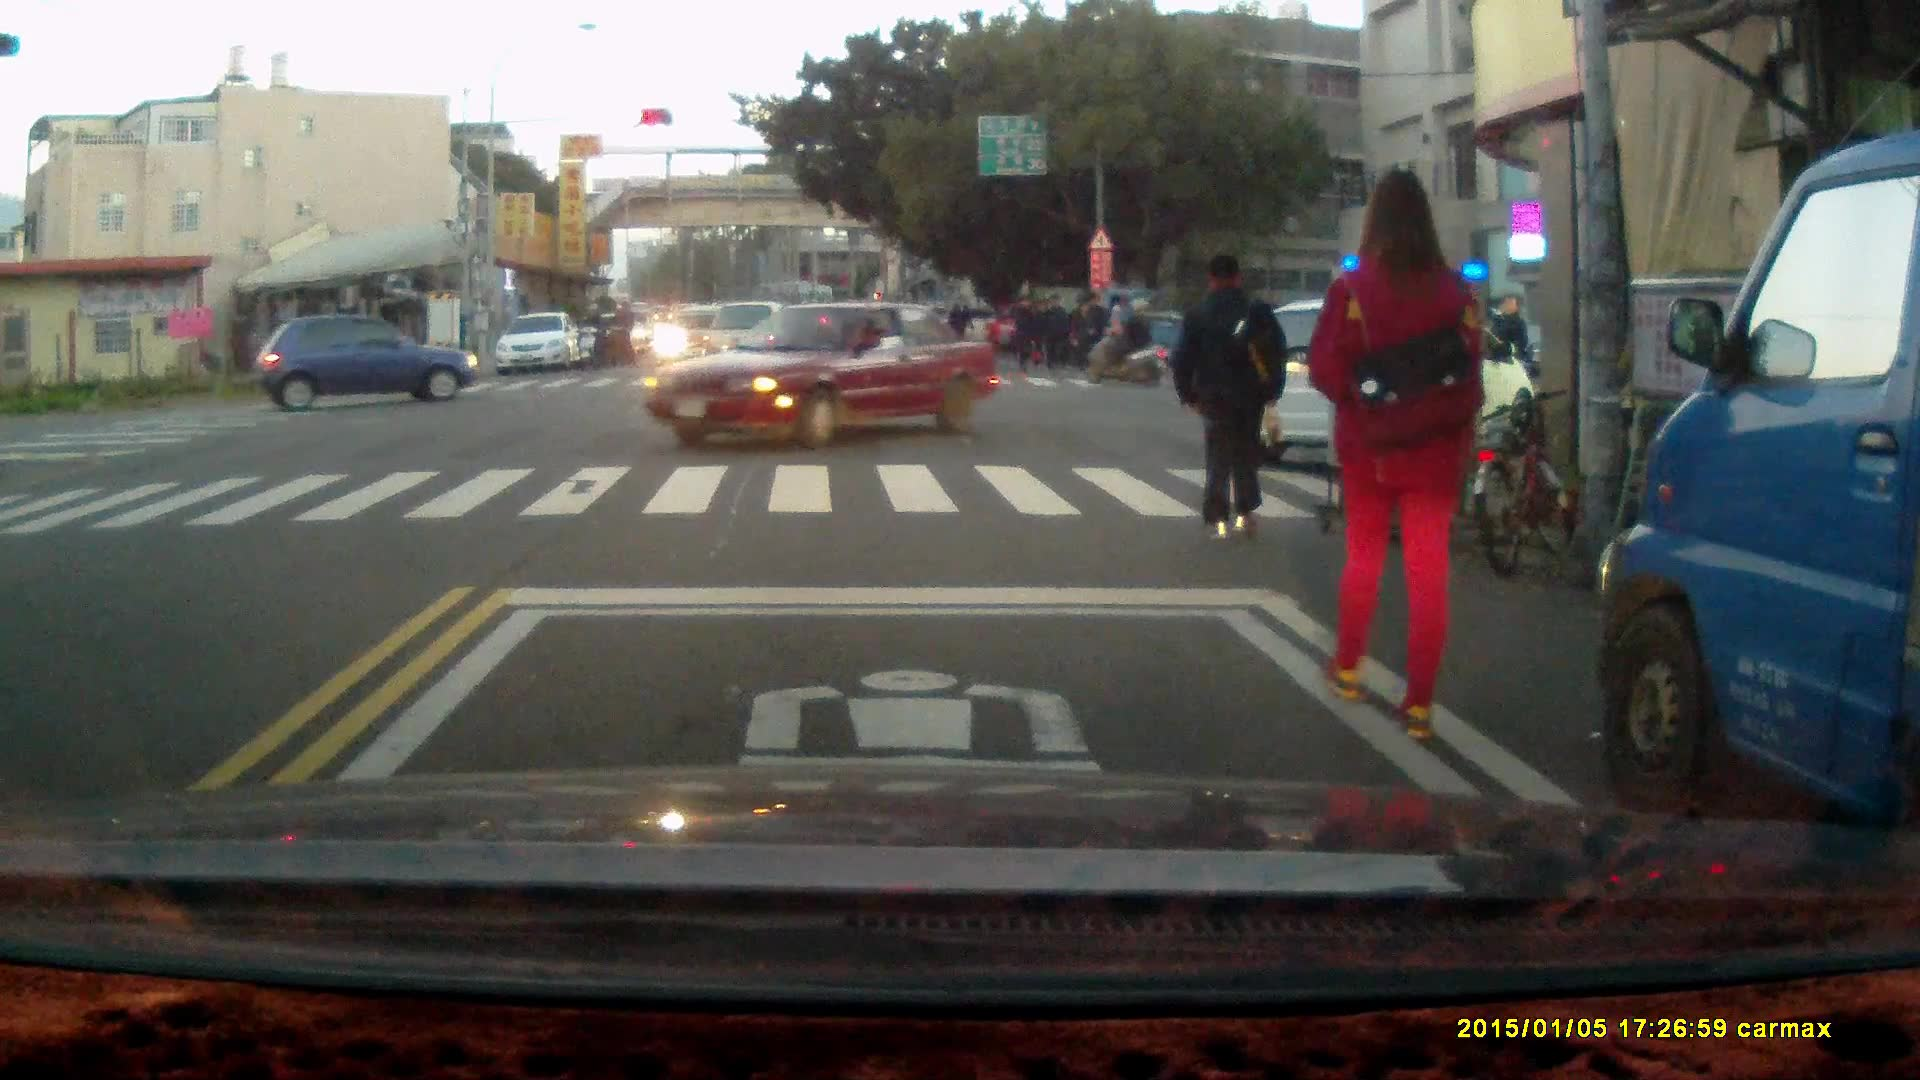pedestrian: (1301, 164, 1487, 743), (1172, 252, 1288, 539), (1487, 295, 1530, 407), (1036, 289, 1067, 370), (1078, 289, 1107, 367), (1013, 294, 1040, 372), (1068, 298, 1093, 364), (949, 293, 972, 362)
rider: (1082, 294, 1166, 387), (575, 302, 607, 369), (603, 302, 632, 362)
vehicle: (1598, 132, 1920, 862), (649, 302, 1008, 448), (1233, 296, 1533, 459), (258, 317, 478, 409), (1002, 284, 1200, 367), (695, 300, 826, 389), (498, 313, 586, 377)
